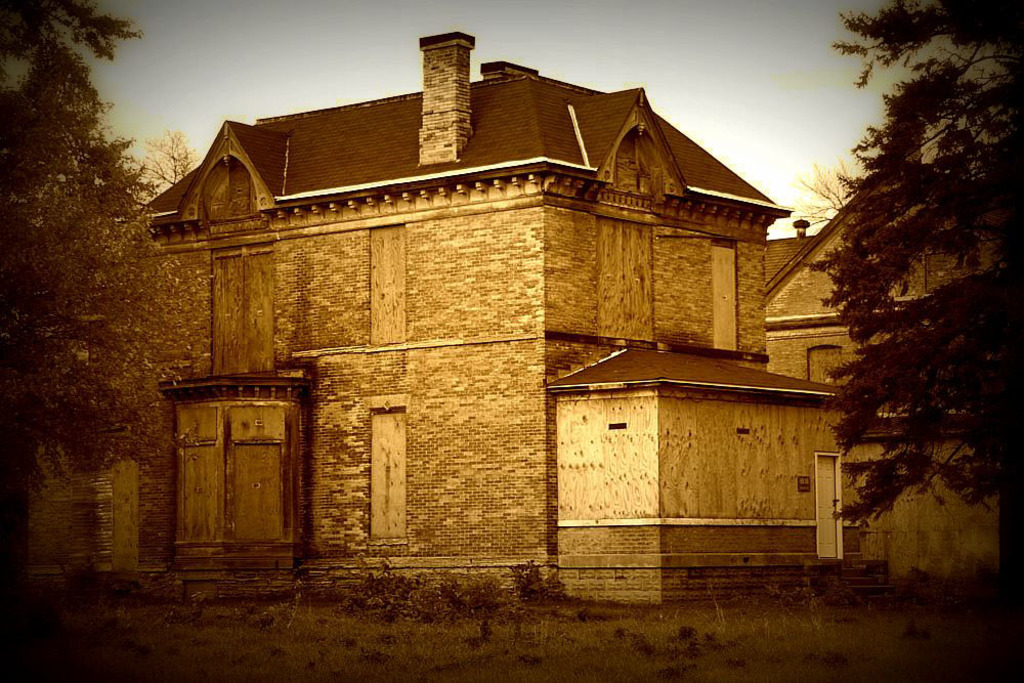door: (816, 458, 837, 558)
